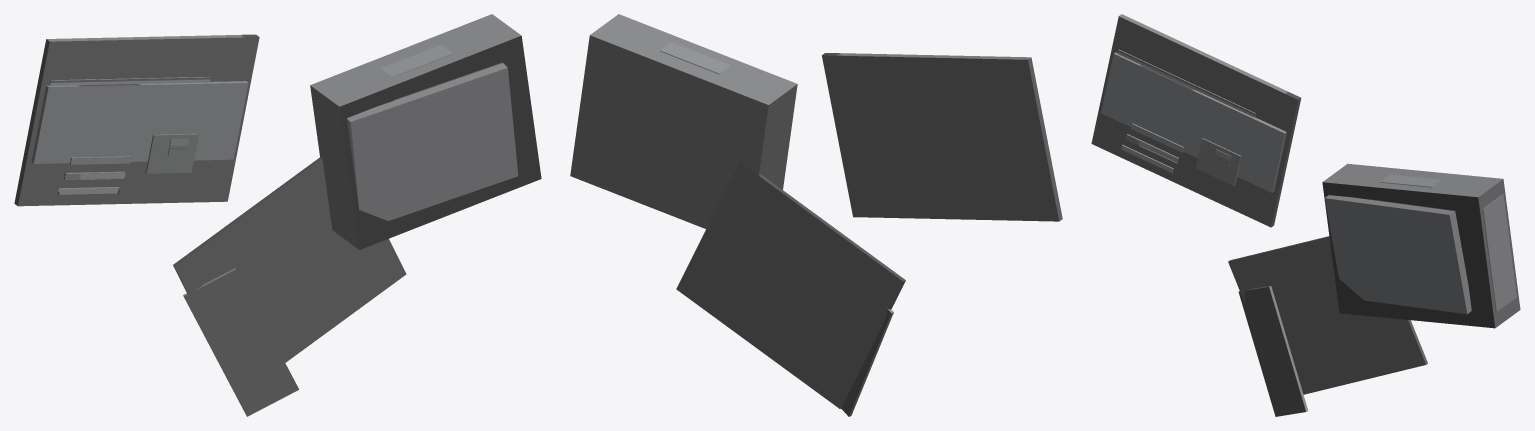
3 renders of one model, left to right at view 1: azimuth 30°, elevation 25°; view 2: azimuth 150°, elevation 25°; view 3: azimuth 330°, elevation 25°, orthographic. The views are drawn at different scales.
Bounding box in the file's own units: 0.9743 × 0.7793 × 0.137.
